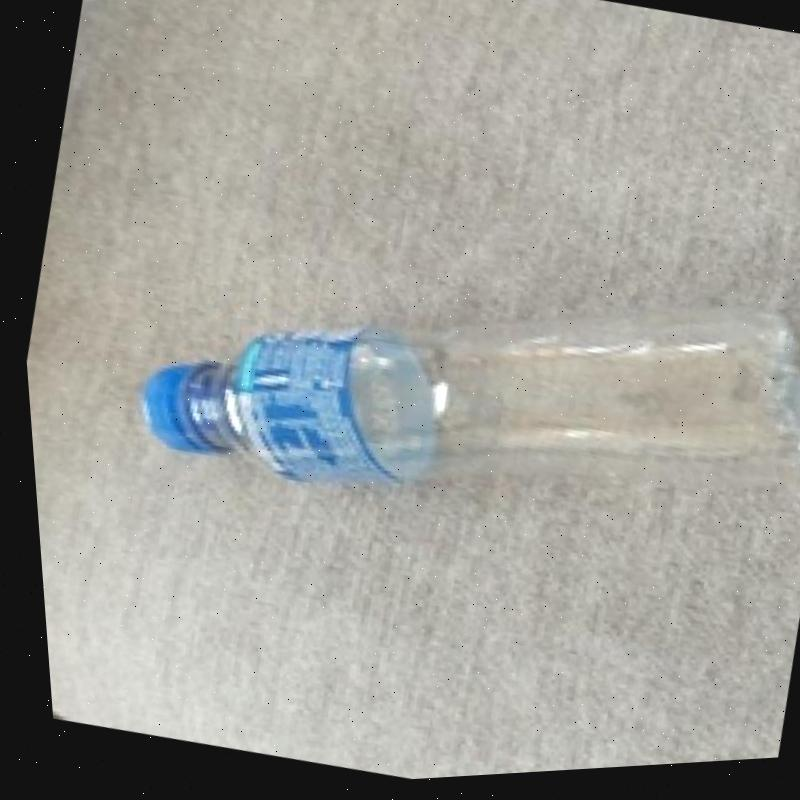botella: (108, 176, 800, 608)
